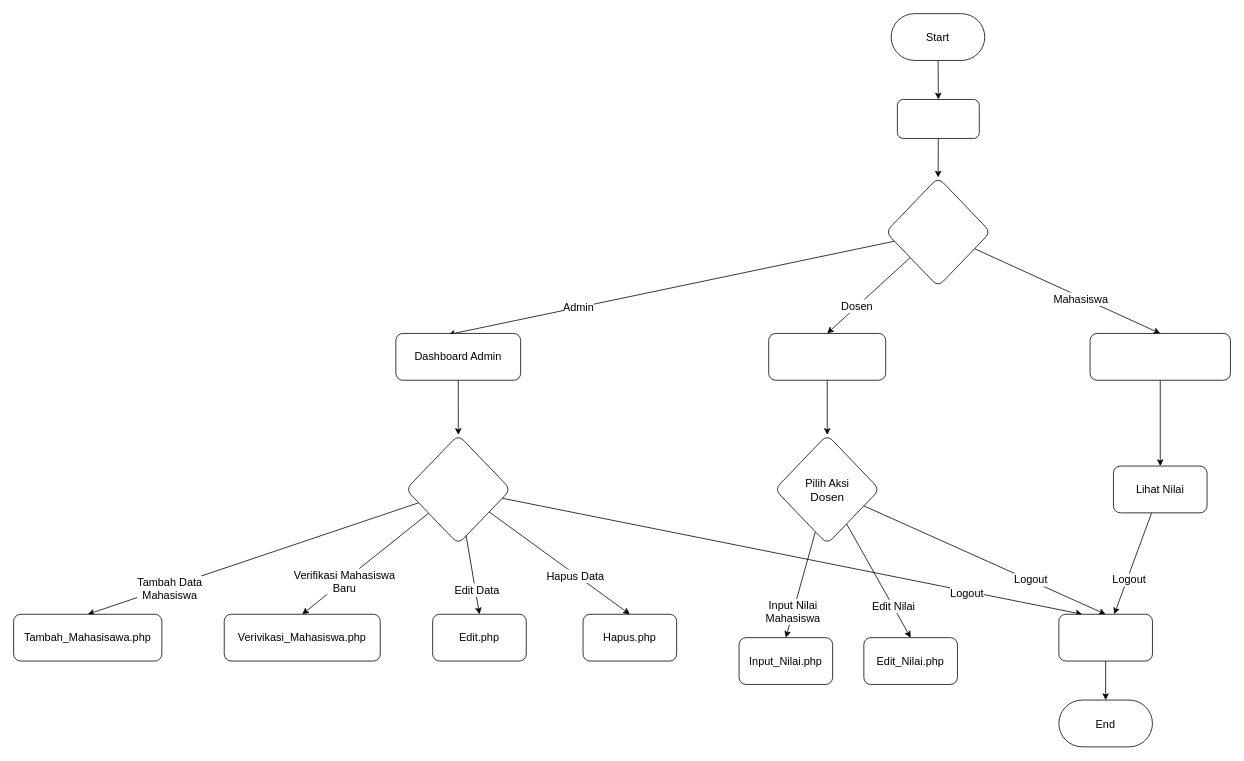
The diagram is 1244 pixels wide and 761 high, and some of its shapes have lost their labels. The centre of each missing label's shape, as x and y in pixels:
Cek Level Pengguna: pixel 938 232
Dashboard Dosen: pixel 827 356
Dashboard Mahasiswa: pixel 1159 356
Login: pixel 938 118
Logout.php: pixel 1105 637
Pilih Aksi Admin: pixel 458 489
